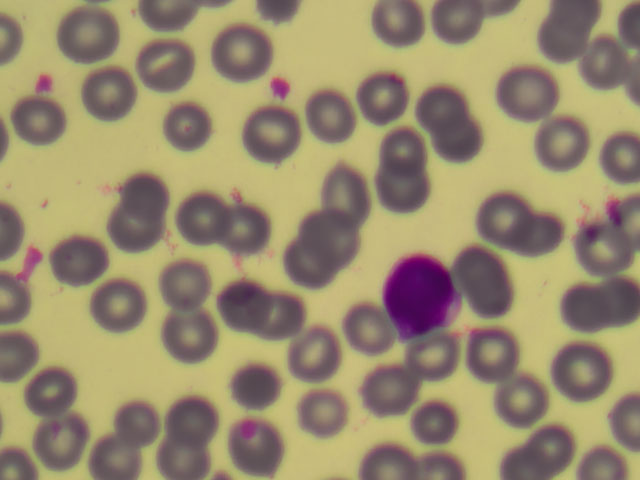Platelets: (267, 73, 297, 102), (35, 72, 59, 92)
RBC: (58, 6, 119, 66), (76, 66, 137, 126), (139, 35, 200, 95), (7, 94, 68, 154), (158, 98, 219, 158), (205, 22, 266, 82), (236, 106, 297, 166), (121, 160, 182, 220), (108, 196, 169, 256), (52, 229, 113, 289), (90, 274, 151, 334), (24, 355, 85, 415), (31, 411, 92, 471), (89, 420, 150, 480), (106, 393, 167, 453), (162, 384, 223, 444), (158, 420, 219, 480), (225, 418, 286, 478), (229, 353, 290, 413), (260, 285, 321, 345), (220, 274, 281, 334), (157, 309, 218, 369), (156, 248, 217, 308), (170, 183, 231, 243), (216, 197, 277, 257), (297, 87, 358, 147), (354, 70, 415, 130), (412, 73, 473, 133), (433, 104, 494, 164), (368, 115, 429, 175), (373, 149, 434, 209), (324, 161, 385, 221), (300, 203, 361, 263), (280, 234, 341, 294), (330, 294, 391, 354), (291, 320, 352, 380), (301, 384, 362, 444), (360, 362, 421, 422), (394, 329, 455, 389), (404, 398, 465, 458), (468, 323, 529, 383), (458, 257, 519, 317), (475, 184, 536, 244), (508, 207, 569, 267), (570, 214, 631, 274), (537, 278, 598, 338), (579, 272, 640, 332), (553, 340, 614, 400), (493, 375, 554, 435), (523, 418, 584, 478), (532, 115, 593, 175), (497, 62, 558, 122), (373, 1, 434, 61), (530, 11, 591, 71), (577, 30, 638, 90), (434, 1, 495, 60)
WBC: (380, 255, 465, 334)
